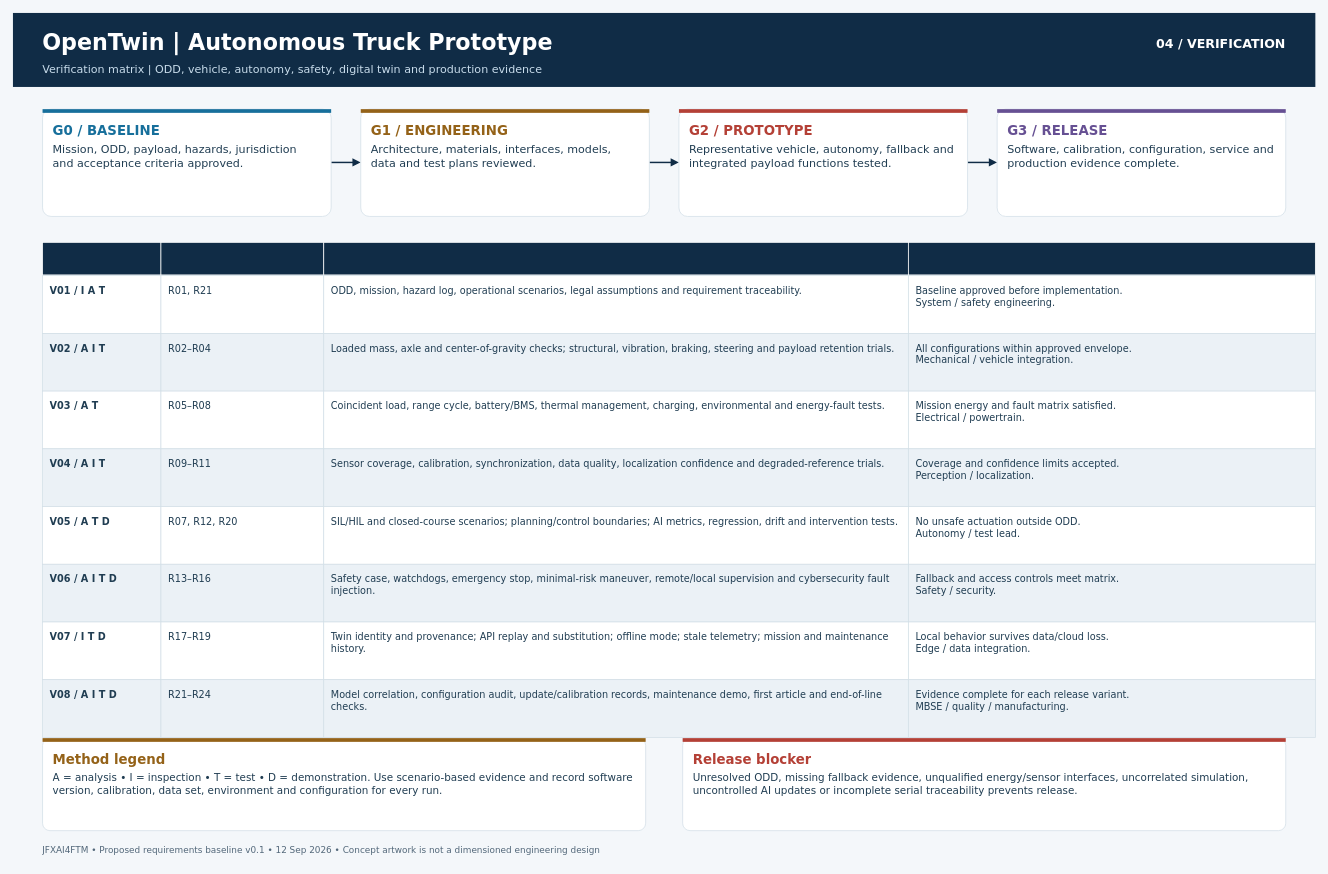
Image size: 1328x874. Some labels were removed from this diagram. Here are the shapes that lost their labels. From the top down, the centre of each, then its label:
the point at 101,258: Verification
the point at 242,258: Req. IDs
the point at 615,258: Evidence package
the point at 1111,258: Acceptance / accountable role
